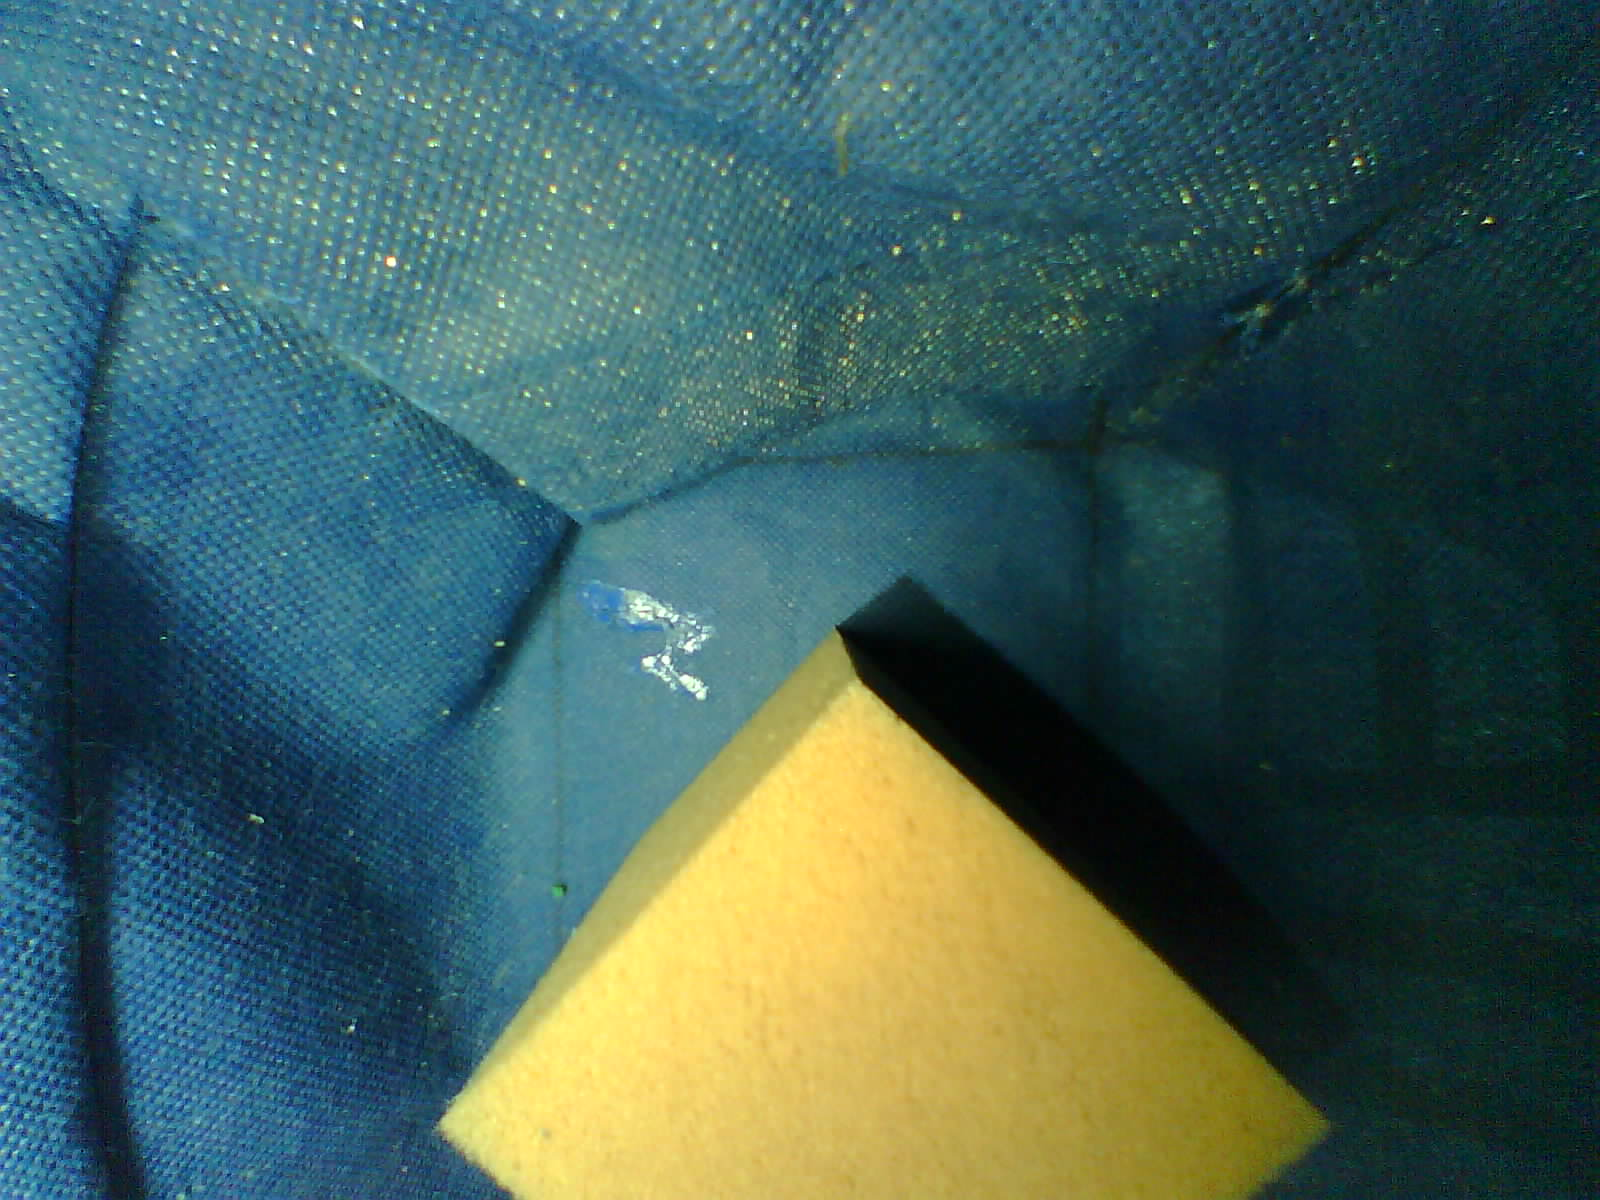cube-soft: (408, 614, 1346, 1200)
